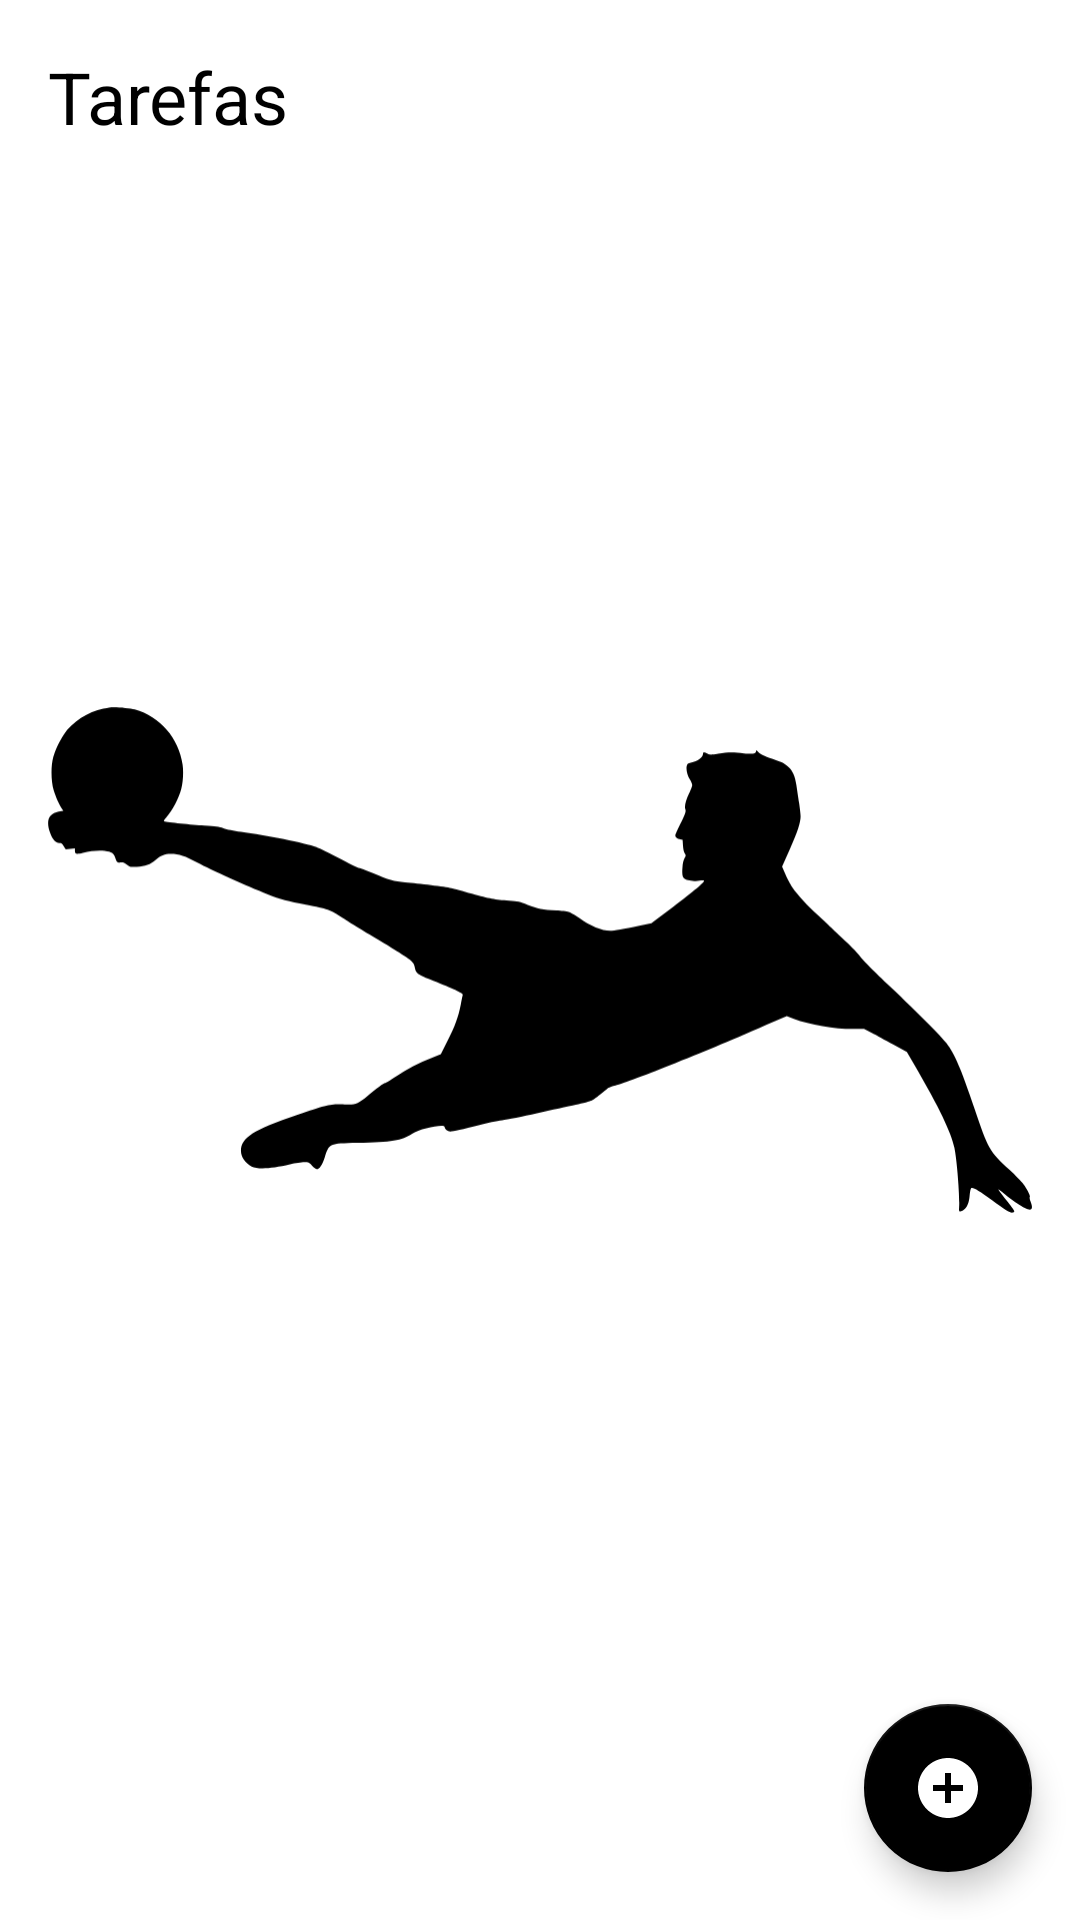

Where icons sit on this 1080px x 1920px app screen, as (x1, y1, x2, y2):
Novo jogo: (864, 1704, 1032, 1872)
